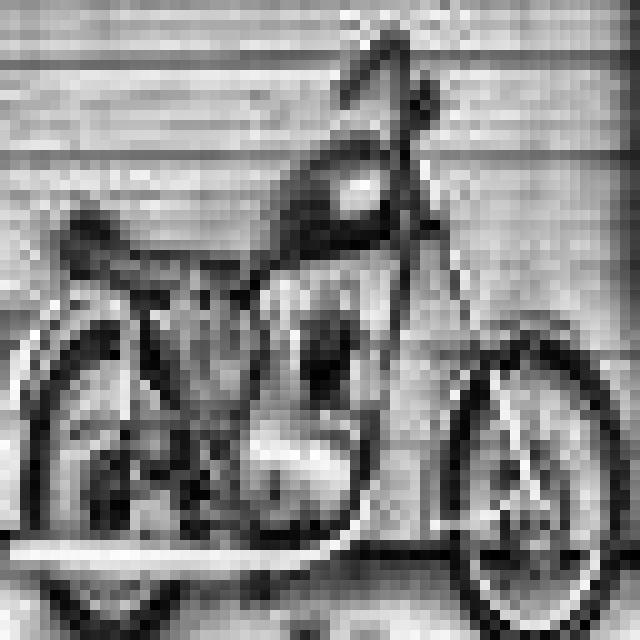mopeds: (14, 41, 629, 640)
